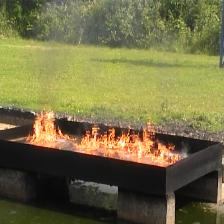fire: (75, 121, 180, 164), (26, 110, 76, 144)
